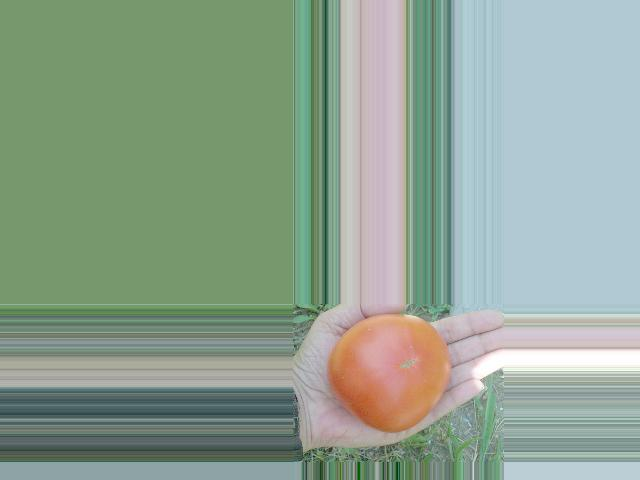tomato: (329, 314, 450, 433)
